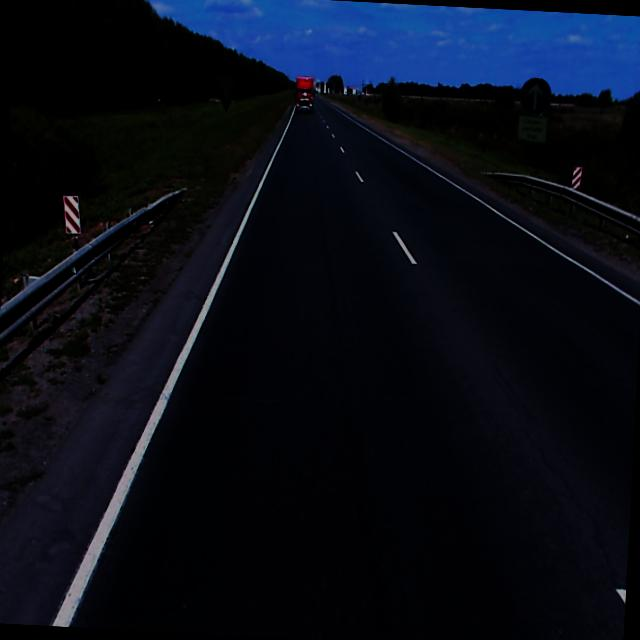road: (0, 94, 640, 640)
